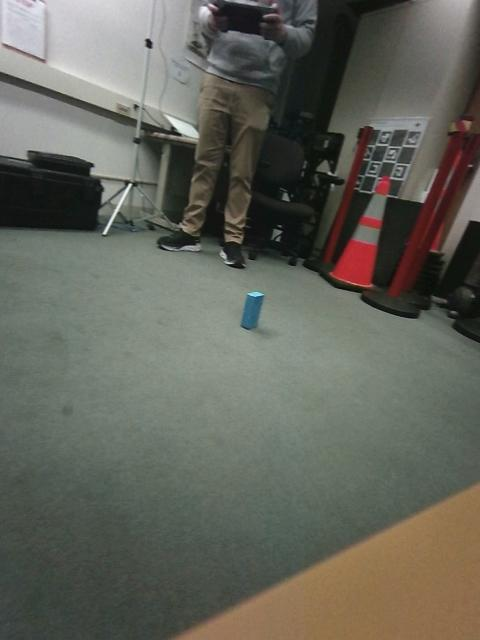block: (67, 326, 107, 411)
